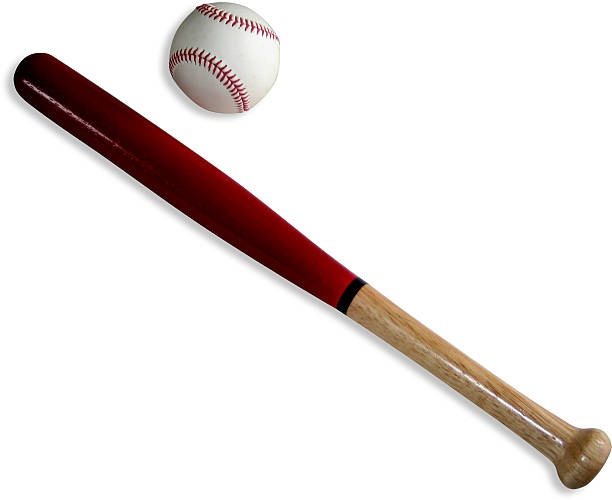bita: (10, 54, 612, 489)
